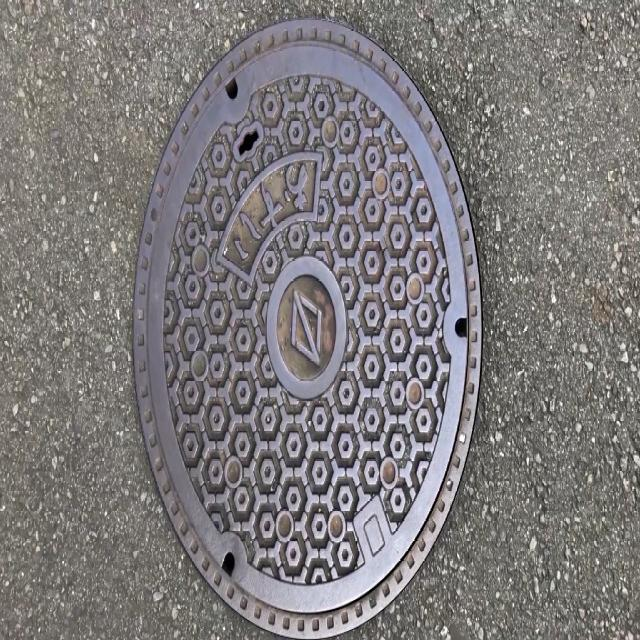manhole: (132, 19, 481, 639)
